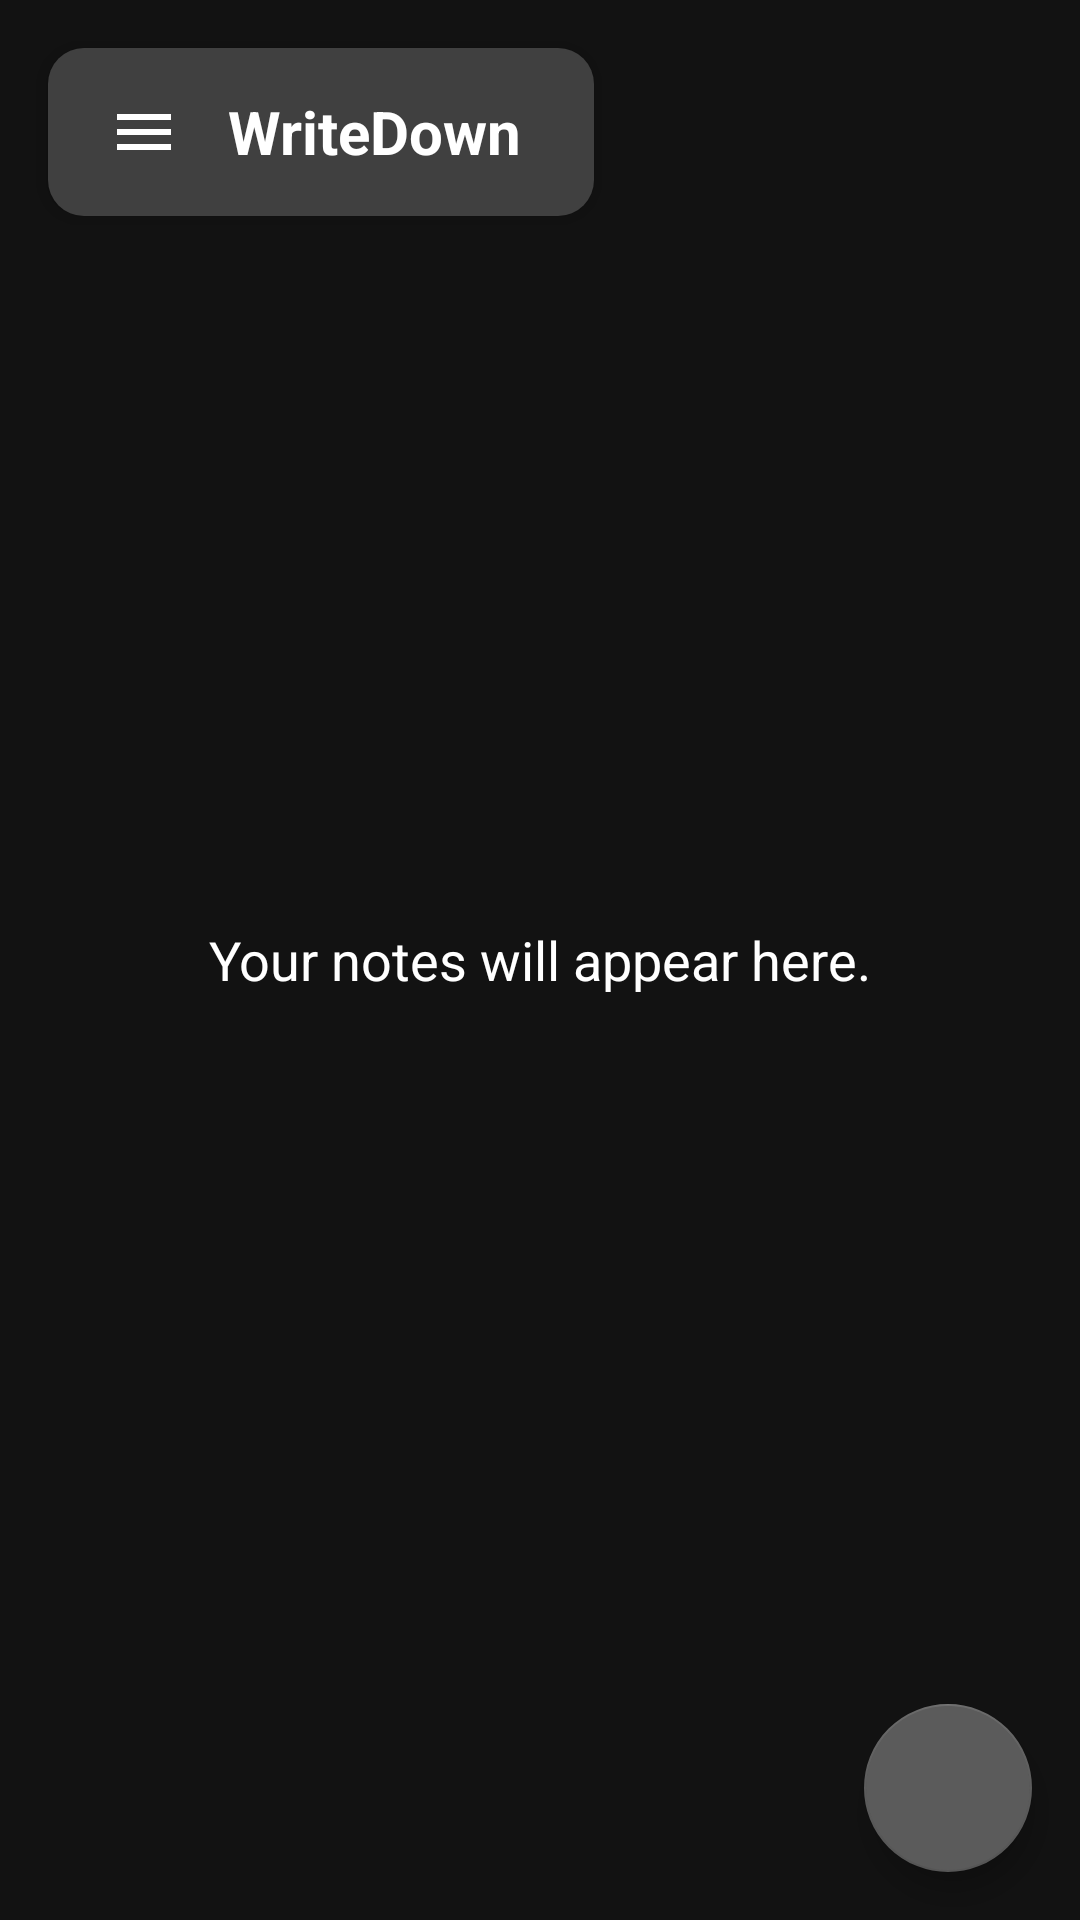

Named icons in this screenshot (1080px×1920px) and their centers, point (x, y):
Menu: point (144, 132)
